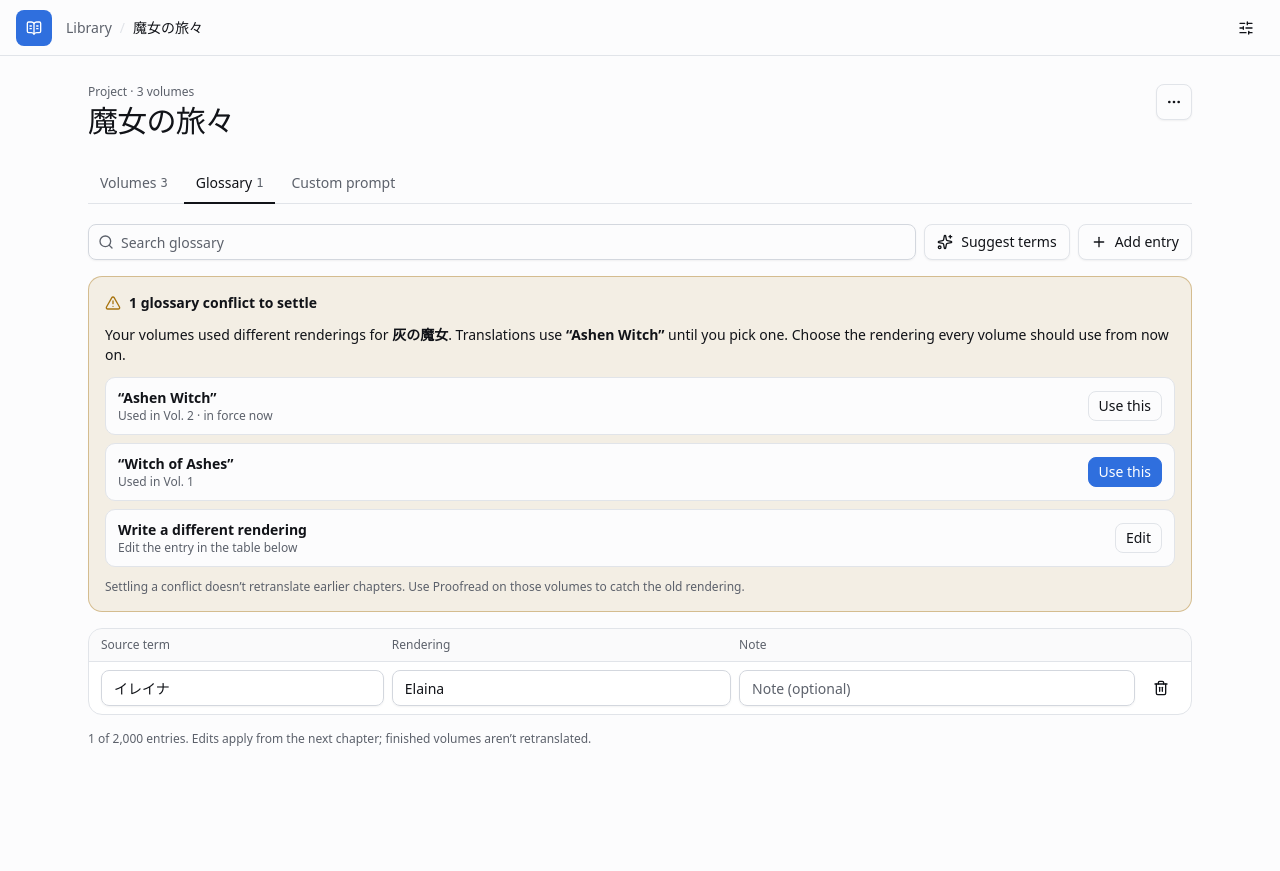
it: suggesting from all volumes › samples every volume in volume order, the earliest volume's rendering winning
This screenshot has width=1280, height=871.
Click the button "Suggest terms" at (997, 242), box [924,224,1070,260]
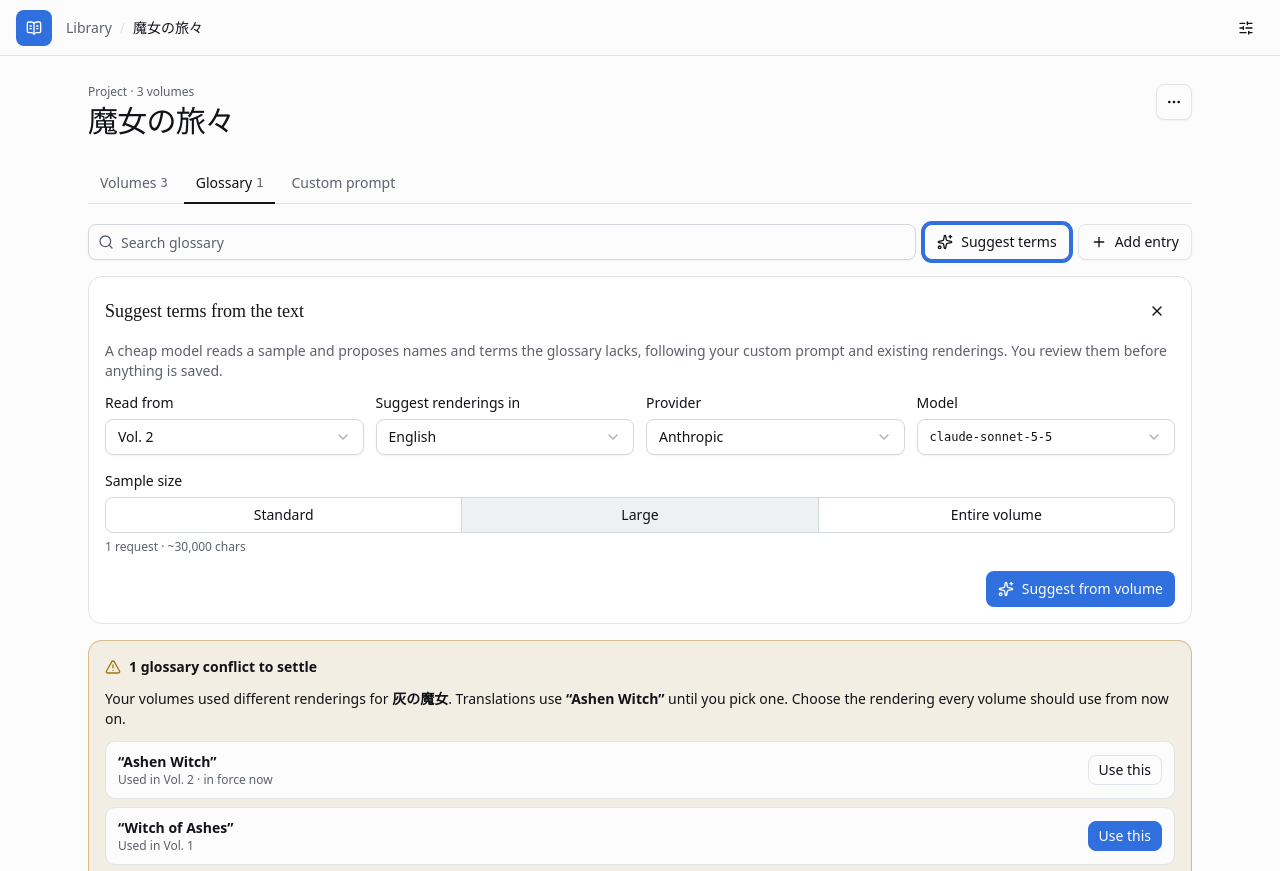
Expected: the text "1 request · ~30,000 chars" is shown, [105,538,246,555]
Click the dropdown named "Read from" at (234, 437), box [105,419,364,455]
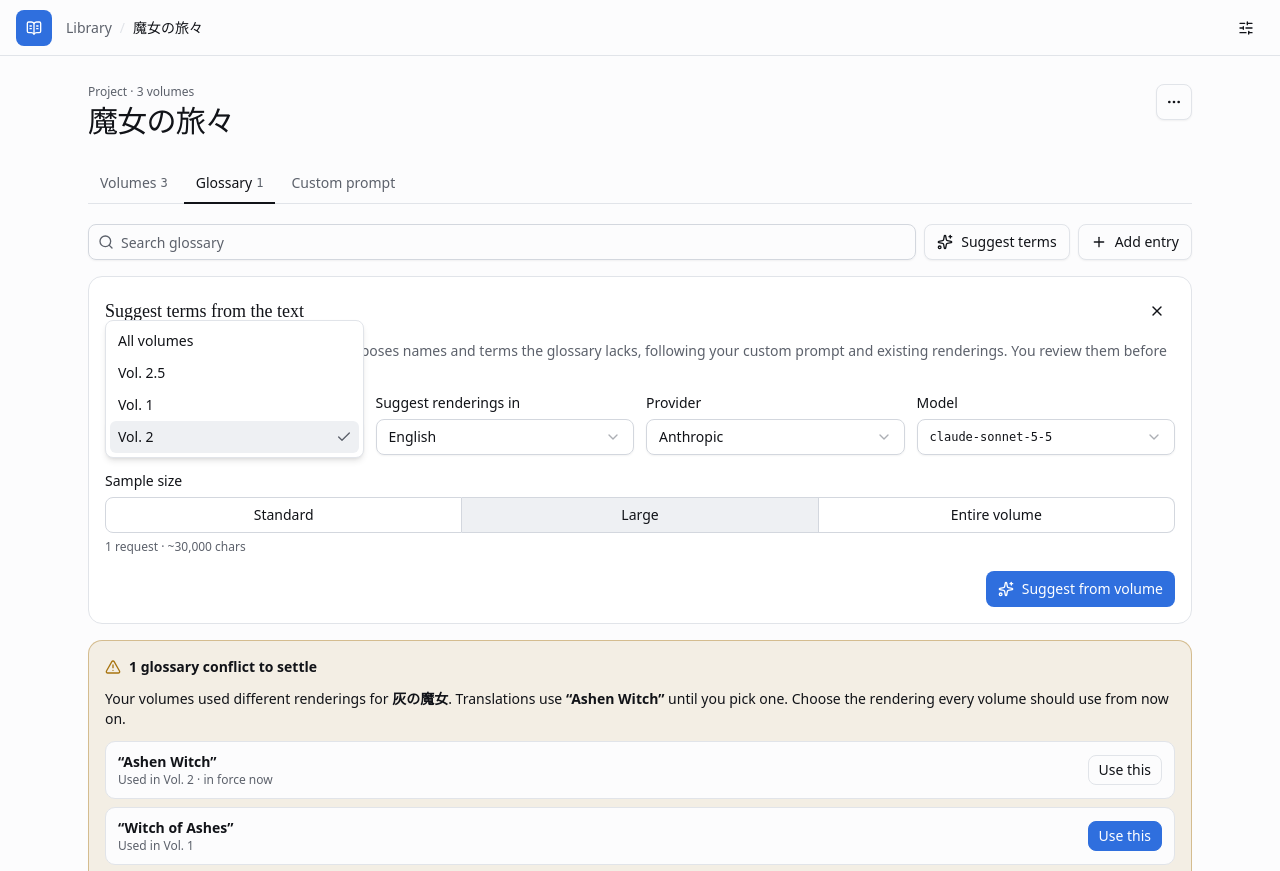
Click the option "All volumes" at (156, 340), box [118,331,193,350]
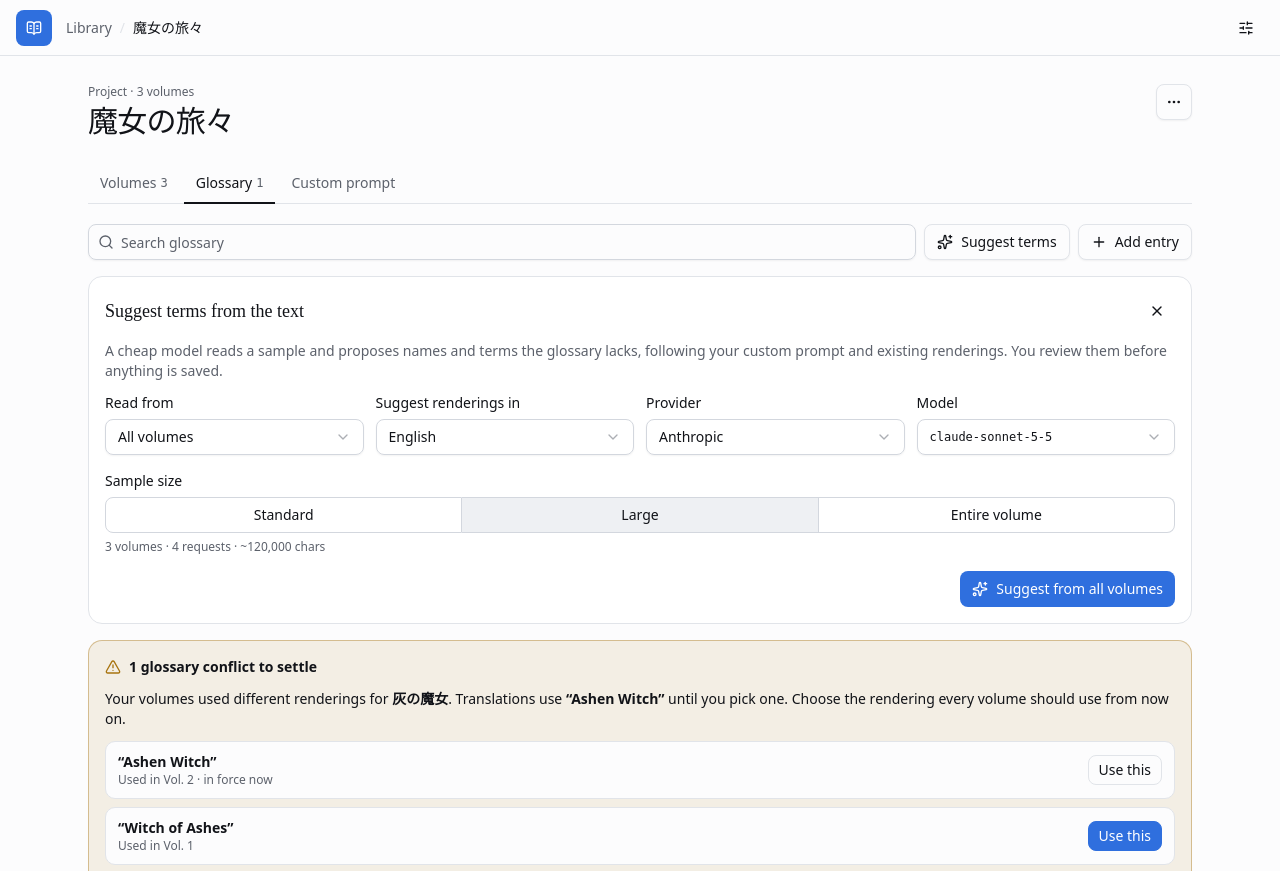
Expected: the text "3 volumes · 4 requests · ~120,000 chars" is shown, [105,538,325,555]
Click the button "Suggest from all volumes" at (1068, 589), box [960,571,1175,607]
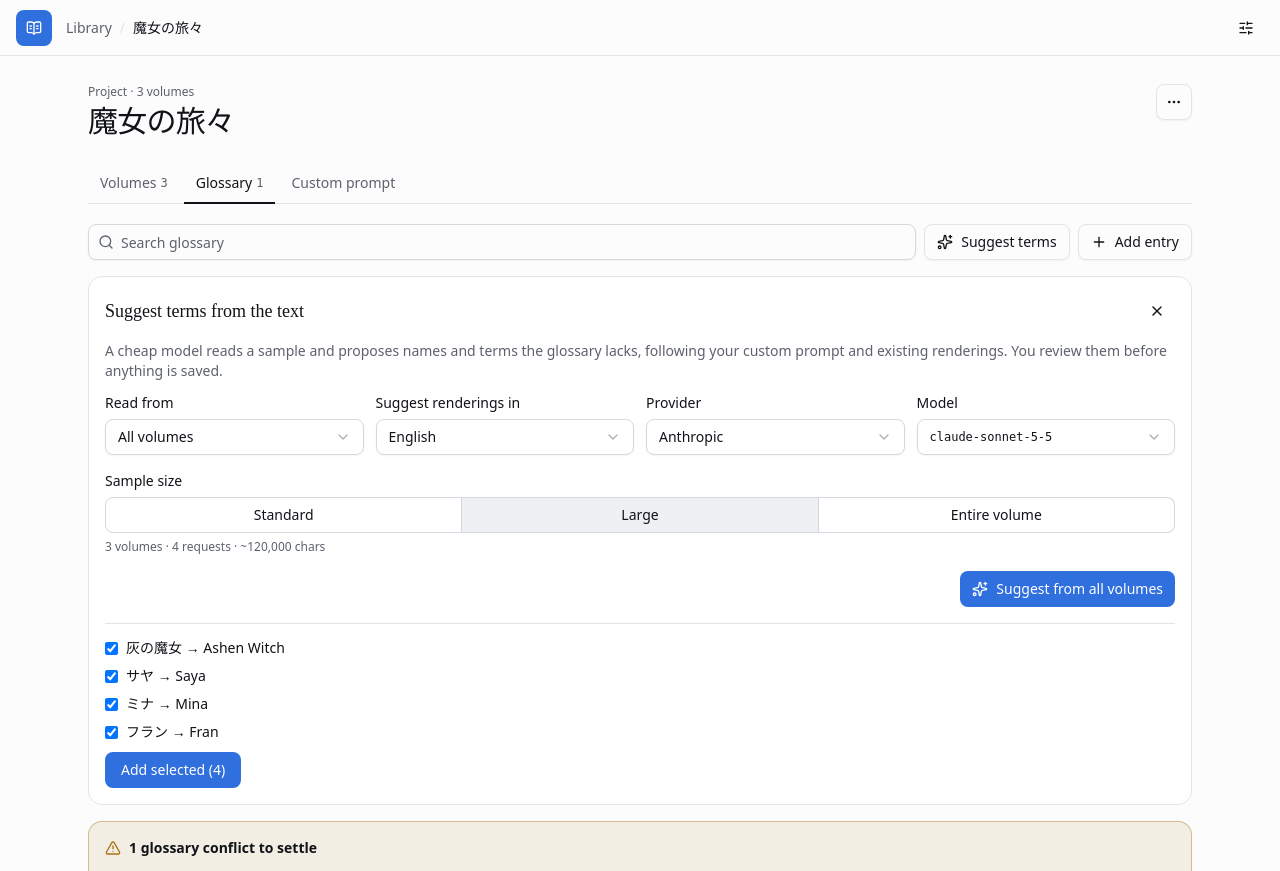
Expected: the number of checkboxes is 4, [105,642,118,655]; [105,670,118,683]; [105,698,118,711]; [105,726,118,739]
Expected: the text "サヤ → Saya" is shown, [126,666,206,686]
